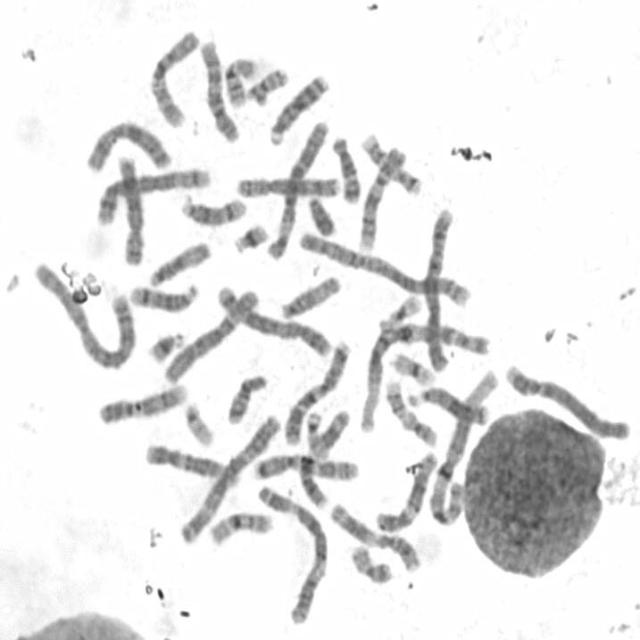A1: (357, 312, 493, 436), (425, 364, 501, 528)
A2: (294, 227, 473, 307), (28, 256, 138, 372)
A3: (175, 407, 284, 546), (253, 478, 330, 626)
B4: (502, 359, 634, 442), (420, 201, 457, 374)
B5: (210, 279, 334, 358), (91, 162, 213, 228)
C10: (144, 24, 202, 129), (195, 35, 241, 144)
C11: (326, 496, 425, 574), (294, 404, 352, 510)
C12: (370, 444, 440, 534), (142, 438, 245, 490)
C6: (262, 112, 334, 260), (159, 281, 261, 385)
C7: (280, 335, 354, 447), (250, 449, 361, 483)
C8: (112, 149, 146, 267), (229, 168, 342, 200)
C9: (354, 140, 407, 252), (95, 376, 190, 426)
D13: (264, 67, 331, 147), (404, 381, 492, 428)
D14: (124, 277, 201, 314), (177, 189, 250, 228)
D15: (144, 234, 213, 288), (276, 269, 344, 320)
E16: (204, 505, 275, 548), (220, 50, 259, 110)
E17: (358, 128, 425, 198), (381, 375, 438, 447)
E18: (224, 368, 270, 426), (328, 130, 363, 205)
F19: (388, 346, 438, 387), (378, 288, 423, 333)
F20: (346, 539, 394, 585), (242, 61, 291, 104)
G21: (144, 325, 186, 365), (228, 216, 270, 255)
G22: (180, 396, 217, 449), (302, 405, 329, 460)
X: (82, 115, 175, 176)
Y: (304, 190, 338, 238)
